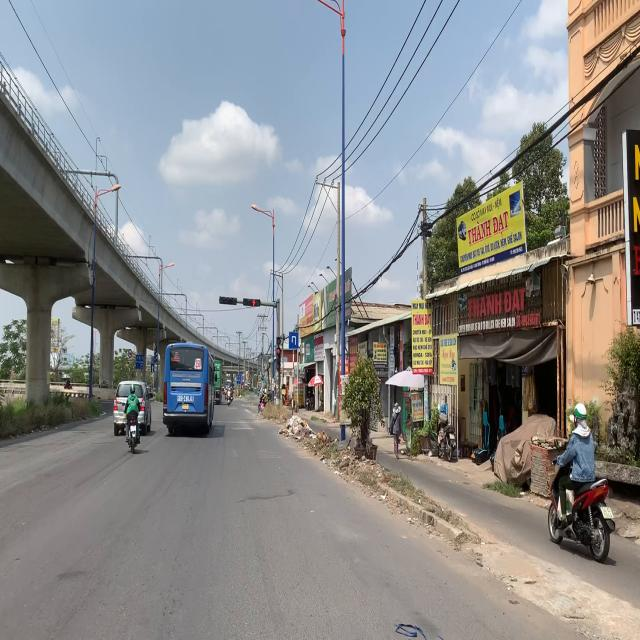Chi dan: (289, 332, 298, 349)
